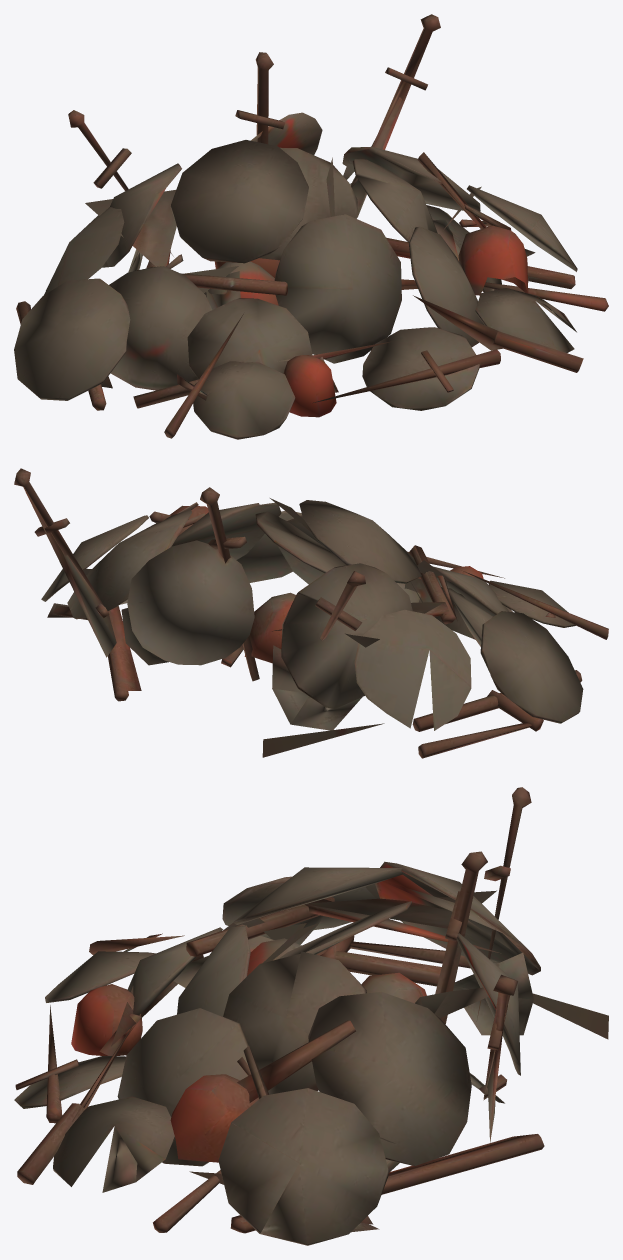
File: weaponPile.glb
3 renders of one model, top to bottom at view 1: azimuth 30°, elevation 25°; view 2: azimuth 150°, elevation 25°; view 3: azimuth 270°, elevation 25°, orthographic. The views are drawn at different scales.
Bounding box in the file's own units: 0.9575 × 0.3721 × 0.7622.
1 material, 1 textured.
